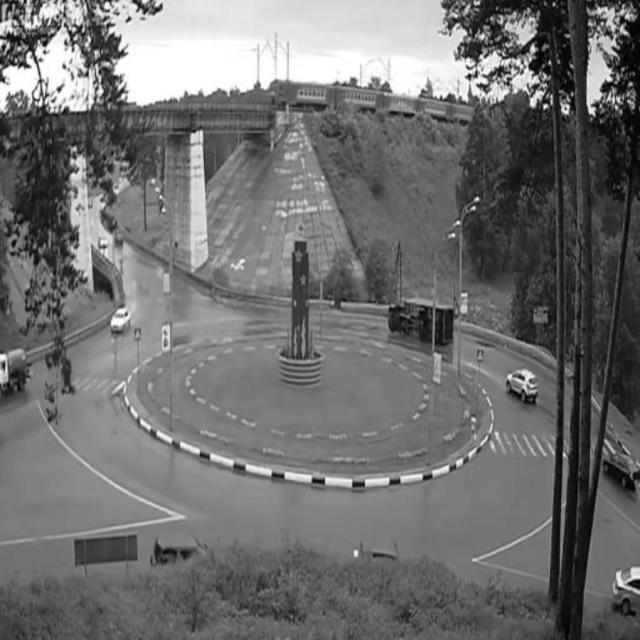vehicle: (389, 295, 460, 347), (604, 444, 639, 500), (1, 346, 29, 392), (614, 572, 640, 616), (510, 370, 535, 410), (110, 297, 134, 335)
